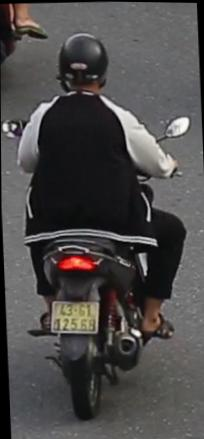LP: (49, 298, 100, 338)
helmet: (53, 28, 112, 103)
